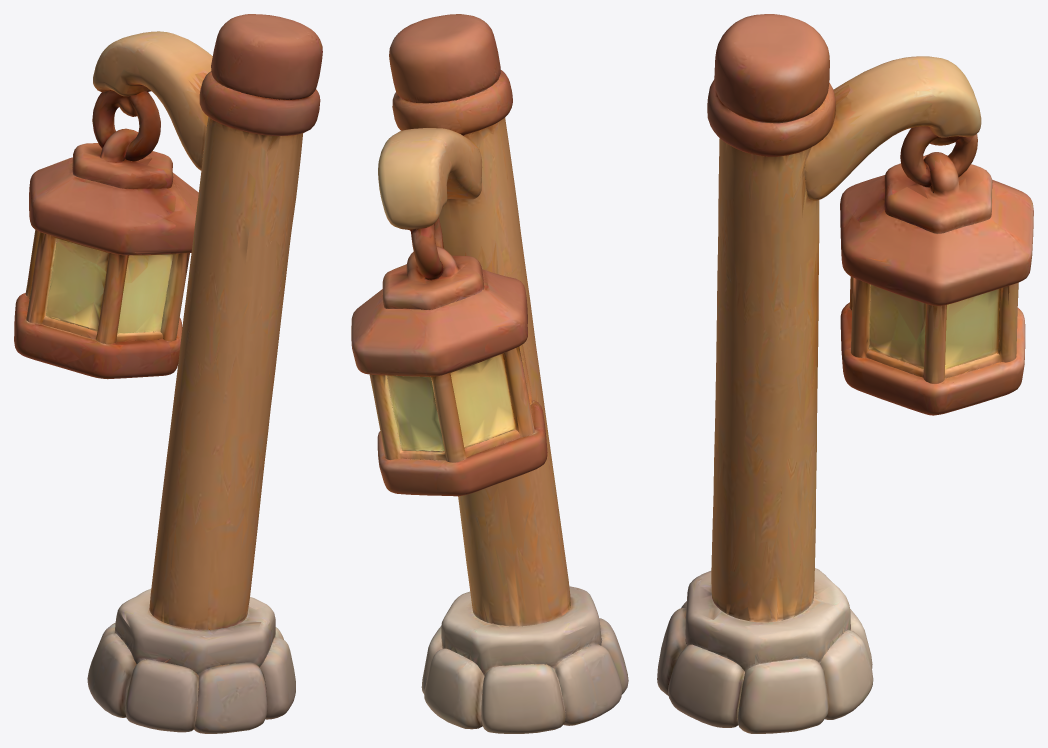
File: P01-clay-street-lamp.glb
3 renders of one model, left to right at view 1: azimuth 30°, elevation 25°; view 2: azimuth 150°, elevation 25°; view 3: azimuth 270°, elevation 25°, orthographic. The views are drawn at different scales.
Parts seen in each view (by area): view 1: P01-clay-street-lamp; view 2: P01-clay-street-lamp; view 3: P01-clay-street-lamp.
Part boxes in pixels (<box>): P01-clay-street-lamp: <box>14,14,322,733</box>; P01-clay-street-lamp: <box>351,14,628,733</box>; P01-clay-street-lamp: <box>657,14,1033,733</box>.
Size of the model in its own units: 0.6713 by 1.9 by 0.9222.
Materials: 1 (1 with a texture image).
